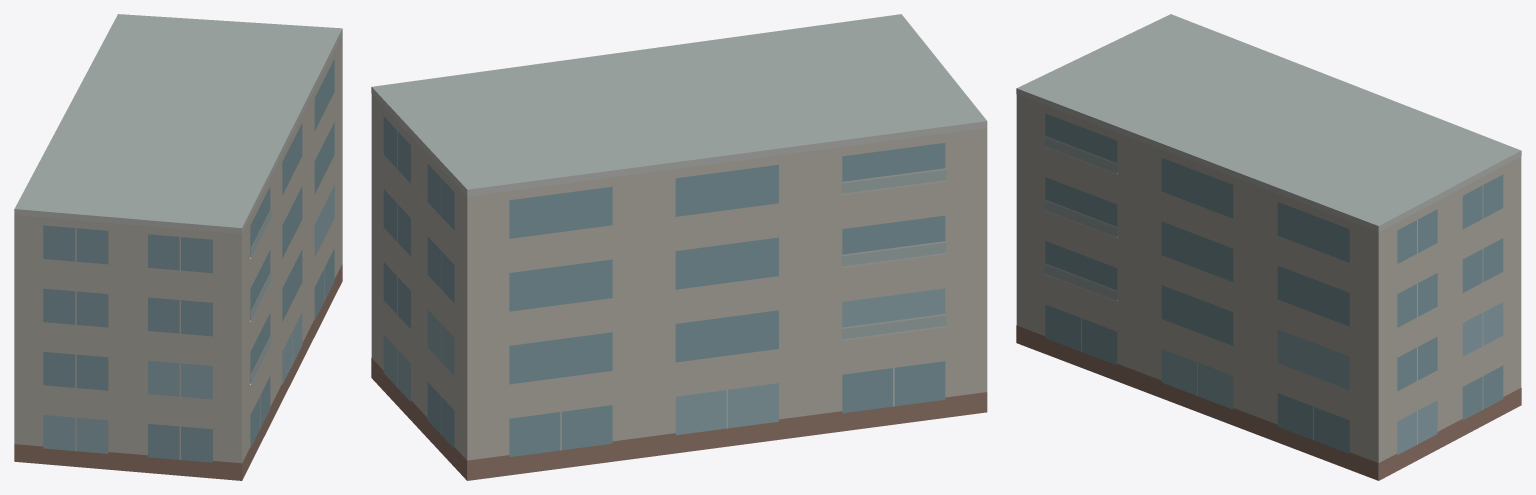
File: survey-upis-32778494.glb
The picture shows the model from 3 angles, left to right: view 1: azimuth 30°, elevation 25°; view 2: azimuth 150°, elevation 25°; view 3: azimuth 270°, elevation 25°; orthographic projection. The views are drawn at different scales.
Parts seen in each view (by area): view 1: survey-upis-32778494.tmp; view 2: survey-upis-32778494.tmp; view 3: survey-upis-32778494.tmp.
Boxes of the visible parts, x1,y1,x2,y2 form: survey-upis-32778494.tmp: [14, 14, 342, 480]; survey-upis-32778494.tmp: [371, 14, 987, 480]; survey-upis-32778494.tmp: [1016, 14, 1521, 480].
Size of the model in its own units: 18.58 by 10.4 by 18.69.
